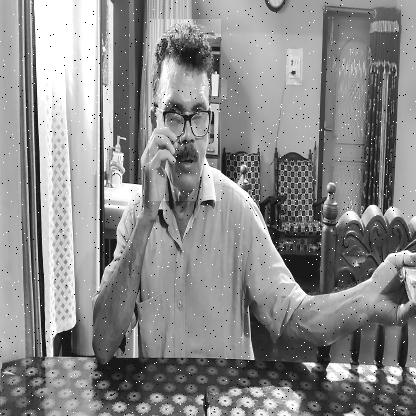Normal: (148, 19, 220, 201)
